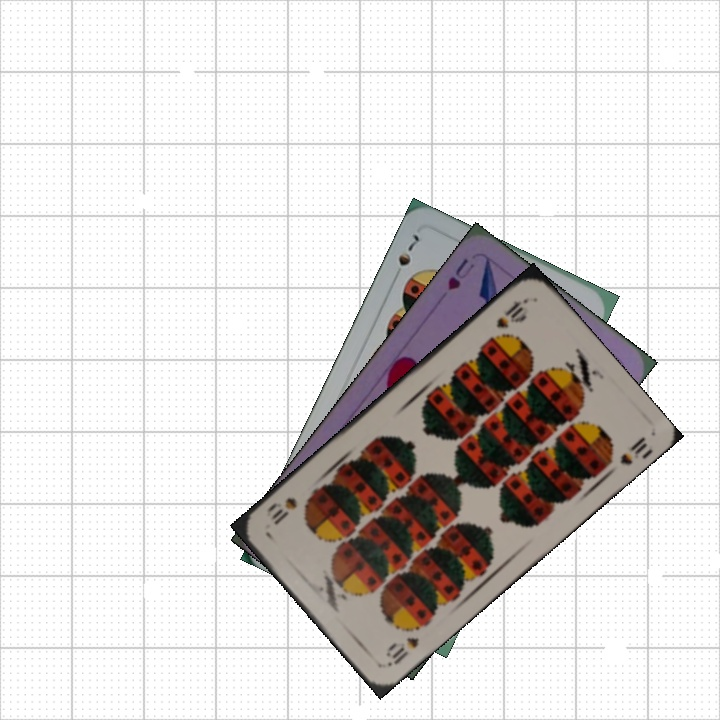HU: (443, 254, 478, 293)
S10: (492, 294, 531, 331), (382, 633, 422, 669)
S7: (394, 229, 422, 269)
